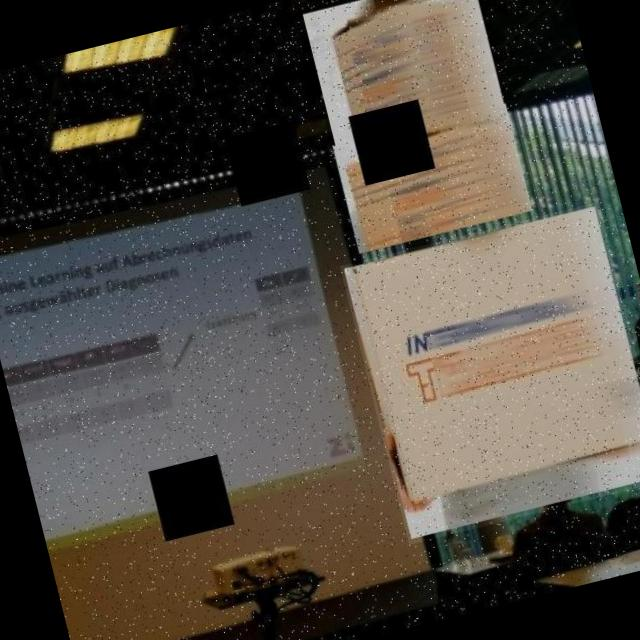box: (339, 201, 640, 544), (299, 0, 518, 185), (328, 100, 538, 258)
